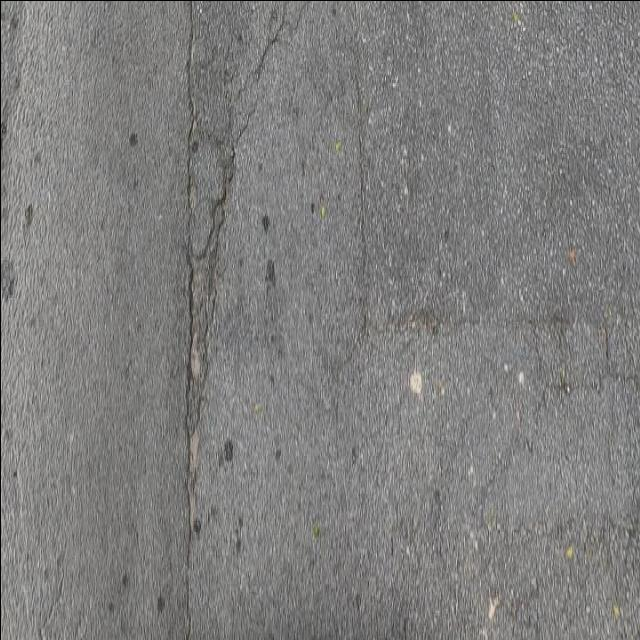cracks: (95, 0, 310, 640)
